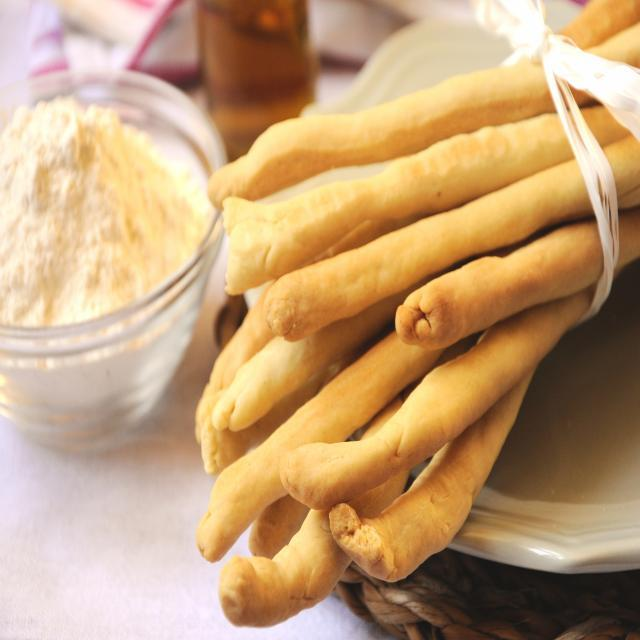Grissini: (198, 75, 592, 617)
